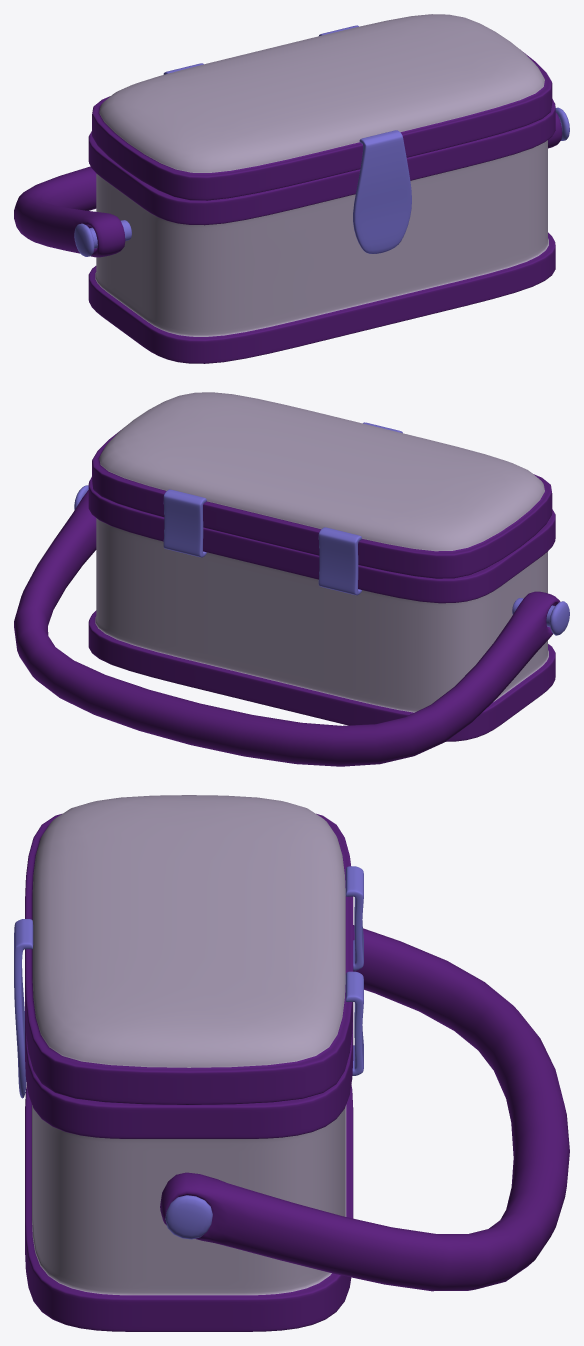
Rendered from SewingBox.fbx.
The picture shows the model from 3 angles, top to bottom: view 1: azimuth 30°, elevation 25°; view 2: azimuth 150°, elevation 25°; view 3: azimuth 270°, elevation 25°; orthographic projection. The views are drawn at different scales.
Parts seen in each view (by area): view 1: polySurface395; view 2: polySurface395; view 3: polySurface395.
Part boxes in pixels (<box>): polySurface395: <box>14,14,569,363</box>; polySurface395: <box>14,392,569,766</box>; polySurface395: <box>14,795,569,1331</box>.
Bounding box in the file's own units: 130 × 53.12 × 92.76.
